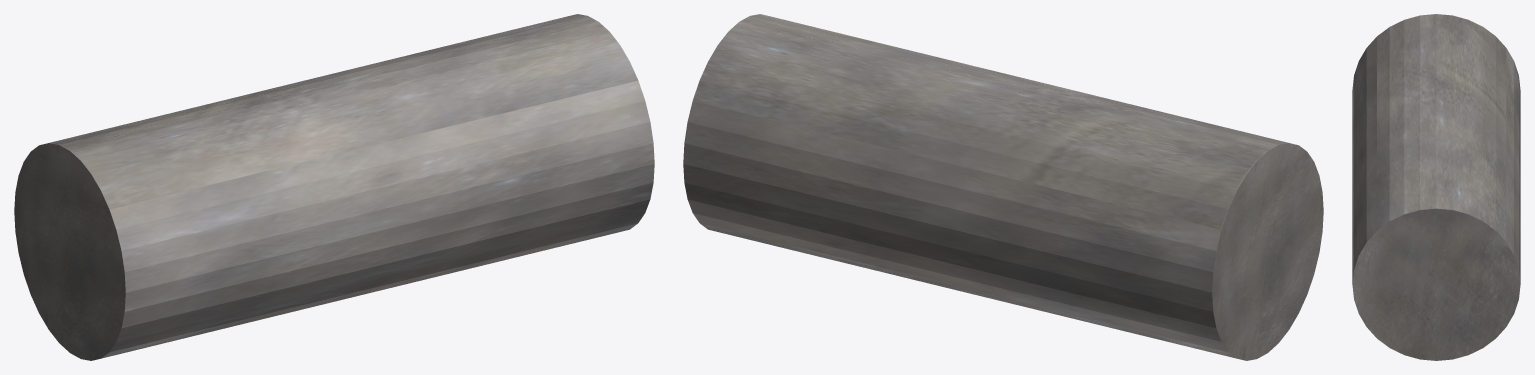
The model's file is plunger.obj.
3 renders of one model, left to right at view 1: azimuth 30°, elevation 25°; view 2: azimuth 150°, elevation 25°; view 3: azimuth 270°, elevation 25°, orthographic. The views are drawn at different scales.
Parts seen in each view (by area): view 1: Cylinder; view 2: Cylinder; view 3: Cylinder.
Boxes of the visible parts, left/top/right/bottom form: Cylinder: left=14, top=14, right=654, bottom=360; Cylinder: left=683, top=14, right=1323, bottom=360; Cylinder: left=1352, top=14, right=1520, bottom=360.
Bounding box in the file's own units: 5.48 × 2 × 2.
1 material, 1 textured.
